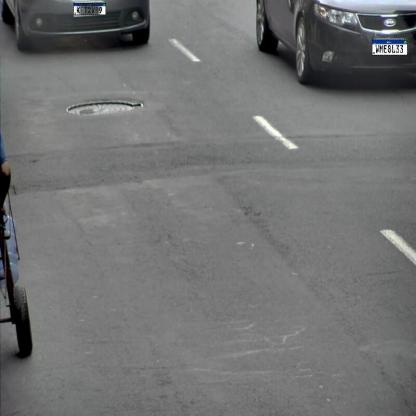PlacaM: (372, 40, 407, 56), (73, 3, 106, 15)
